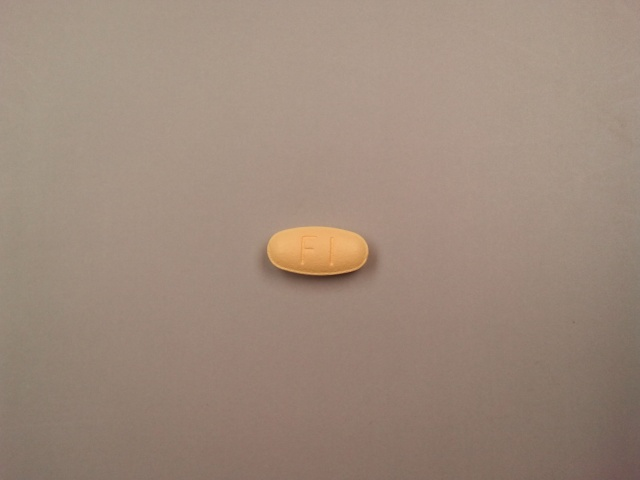F: (294, 231, 321, 269)
I: (322, 230, 339, 270)
